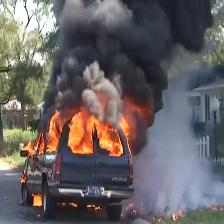fire: (55, 104, 139, 156)
smoke: (52, 0, 180, 103)
